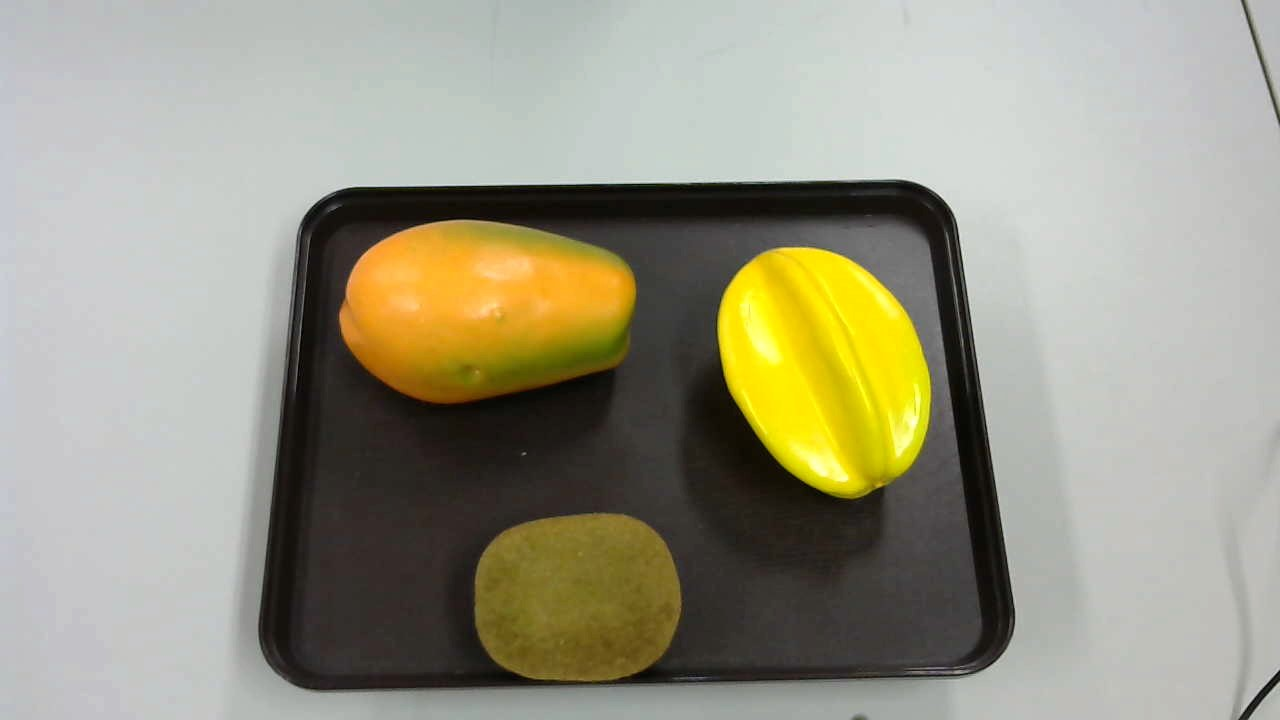kiwi fruit: (469, 510, 686, 691)
papya: (334, 212, 646, 417)
star fruit: (718, 247, 934, 503)
